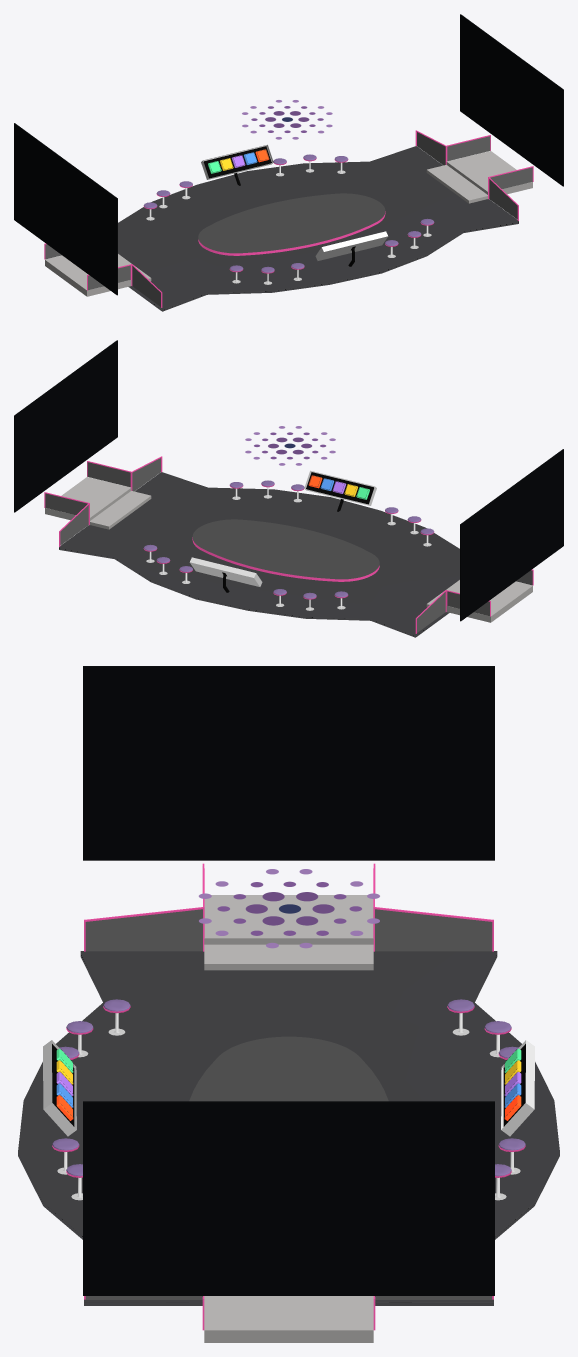
File: partyMode1.glb
The picture shows the model from 3 angles, top to bottom: view 1: azimuth 30°, elevation 25°; view 2: azimuth 150°, elevation 25°; view 3: azimuth 270°, elevation 25°; orthographic projection. The views are drawn at different scales.
Parts seen in each view (by area): view 1: p05_floor_001, p05_tv_002, p05_tv_001.001, p05_glass_floor.001, p05_stairs_001, p05_railing_001.001, p05_railing_002.001, p05_buttons, p05_Ringbuttons, p05_bar_chair_001, p05_logo_MRCgroup_001, p05_bar_chair_002 (+1 smaller); view 2: p05_floor_001, p05_tv_002, p05_tv_001.001, p05_glass_floor.001, p05_stairs_001, p05_railing_001.001, p05_railing_002.001, p05_buttons, p05_Ringbuttons, p05_bar_chair_001, p05_logo_MRCgroup_001, p05_bar_chair_002 (+1 smaller); view 3: p05_tv_001.001, p05_tv_002, p05_floor_001, p05_stairs_001, p05_glass_floor.001, p05_railing_002.001, p05_buttons, p05_logo_MRCgroup_001, p05_bar_chair_001, p05_Ringbuttons, p05_bar_chair_002, p05_railing_003.001.
Part boxes in pixels (<box>): p05_floor_001: <box>118,146,518,311</box>; p05_tv_002: <box>460,14,563,186</box>; p05_tv_001.001: <box>14,123,117,295</box>; p05_glass_floor.001: <box>198,193,385,255</box>; p05_stairs_001: <box>45,151,532,296</box>; p05_railing_001.001: <box>45,136,532,290</box>; p05_railing_002.001: <box>132,132,517,306</box>; p05_buttons: <box>204,146,355,266</box>; p05_Ringbuttons: <box>201,144,388,260</box>; p05_bar_chair_001: <box>143,154,434,273</box>; p05_logo_MRCgroup_001: <box>242,100,332,139</box>; p05_bar_chair_002: <box>146,161,431,284</box>; p05_floor_001: <box>59,472,459,637</box>; p05_tv_002: <box>14,340,117,512</box>; p05_tv_001.001: <box>460,449,563,621</box>; p05_glass_floor.001: <box>192,519,379,581</box>; p05_stairs_001: <box>45,477,532,622</box>; p05_railing_001.001: <box>45,462,532,616</box>; p05_railing_002.001: <box>60,458,445,632</box>; p05_buttons: <box>222,472,373,592</box>; p05_Ringbuttons: <box>189,470,376,586</box>; p05_bar_chair_001: <box>143,480,434,599</box>; p05_logo_MRCgroup_001: <box>245,426,335,465</box>; p05_bar_chair_002: <box>146,487,431,610</box>; p05_tv_001.001: <box>83,666,494,860</box>; p05_tv_002: <box>83,1101,494,1295</box>; p05_floor_001: <box>18,951,559,1305</box>; p05_stairs_001: <box>204,895,373,1342</box>; p05_glass_floor.001: <box>189,1036,388,1101</box>; p05_railing_002.001: <box>85,909,492,1299</box>; p05_buttons: <box>52,1044,525,1126</box>; p05_logo_MRCgroup_001: <box>198,869,379,948</box>; p05_bar_chair_001: <box>52,999,525,1177</box>; p05_Ringbuttons: <box>43,1040,534,1136</box>; p05_bar_chair_002: <box>57,1013,520,1200</box>; p05_railing_003.001: <box>84,907,493,1299</box>.
Size of what is drawn, in the model's own units: 28.16 by 7.44 by 14.78.
6 materials, 6 textured.
